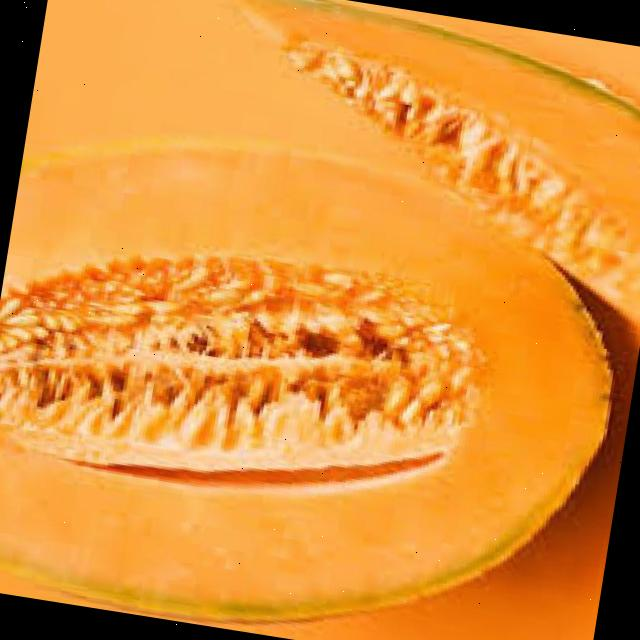Hami Melon: (0, 110, 636, 640), (175, 0, 640, 324)
